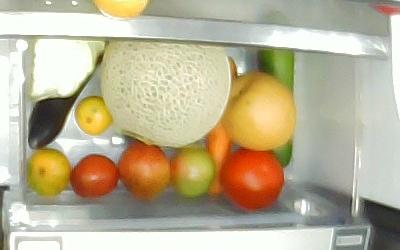cabbage: (24, 35, 106, 105)
carrot: (205, 117, 233, 195)
eggplant: (29, 36, 106, 149)
melon: (100, 39, 231, 146)
pear: (222, 71, 297, 150)
prune: (118, 143, 171, 200), (69, 155, 118, 196)
tangerine: (25, 150, 70, 197), (76, 96, 112, 136)
tomato: (221, 147, 284, 209), (170, 149, 216, 197)
zucchini: (255, 47, 295, 166)
